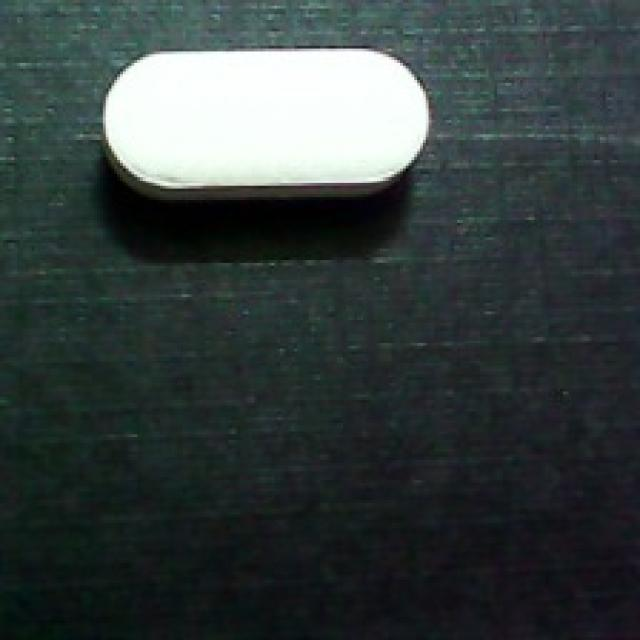no-defect: (97, 40, 443, 209)
